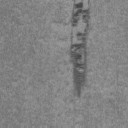oxide scale of plate system: (69, 2, 90, 98)
